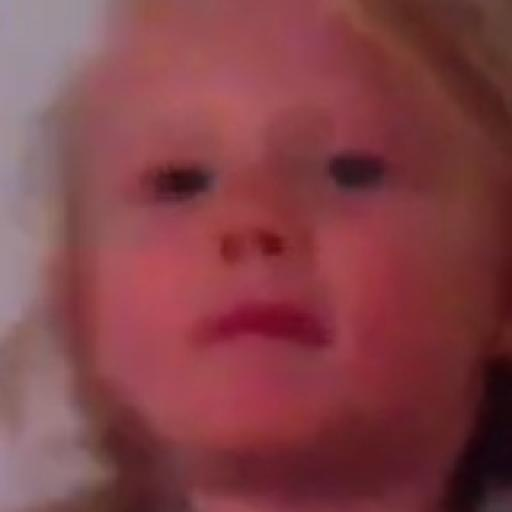Autism: (77, 40, 512, 461)
